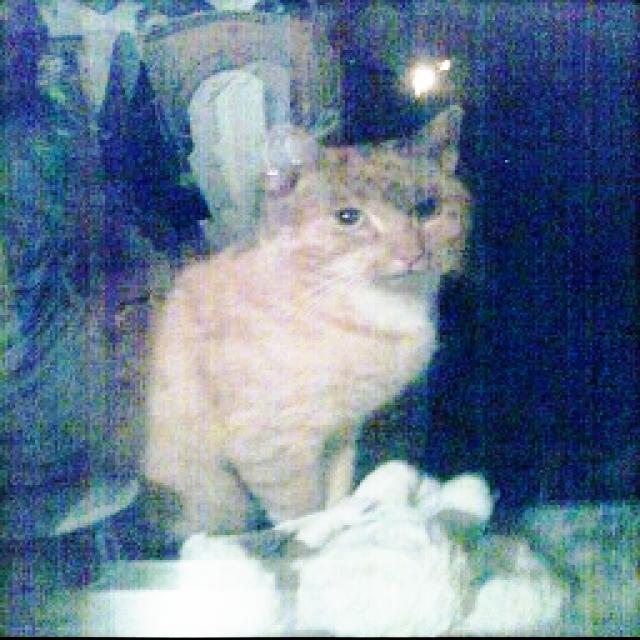cat: (124, 101, 482, 521)
